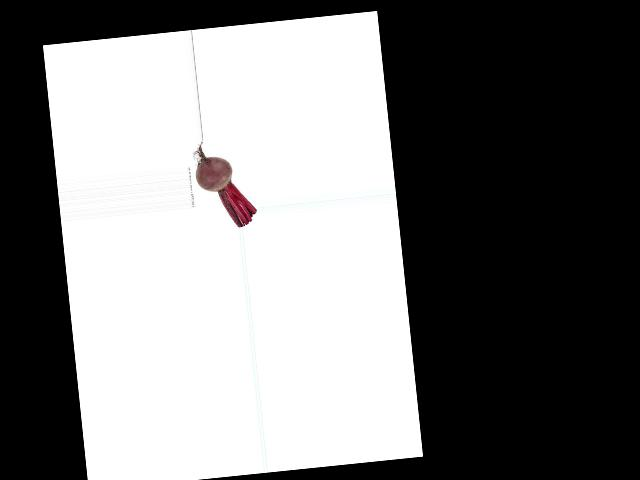beet: (192, 137, 257, 231)
